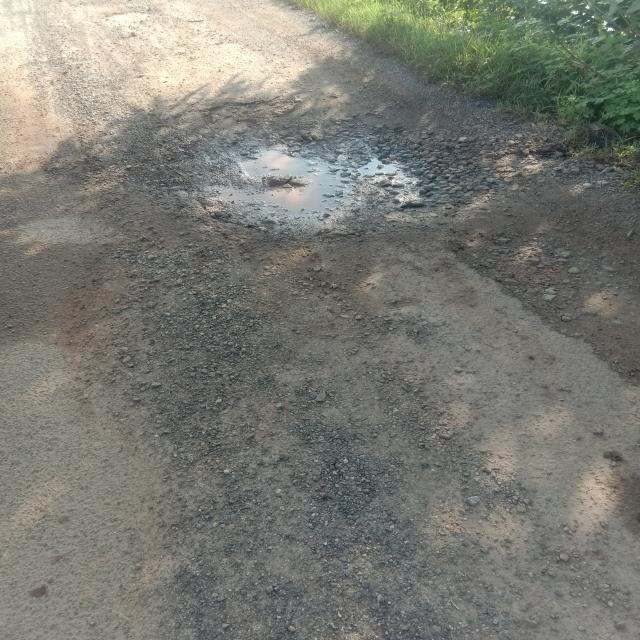potholes: (164, 114, 501, 243)
